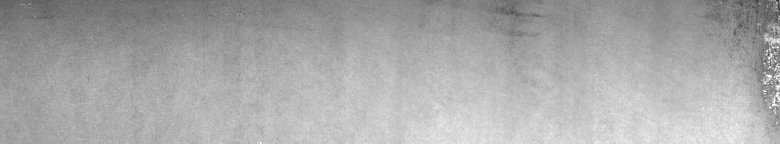hc: (702, 4, 776, 118)
